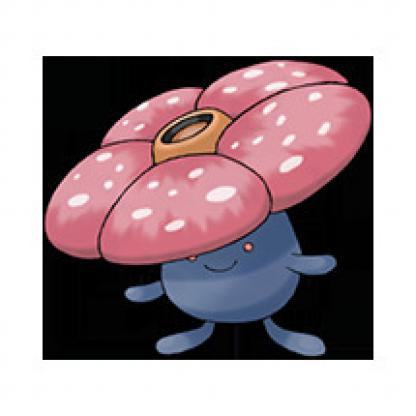Vileplume: (40, 44, 362, 366)
